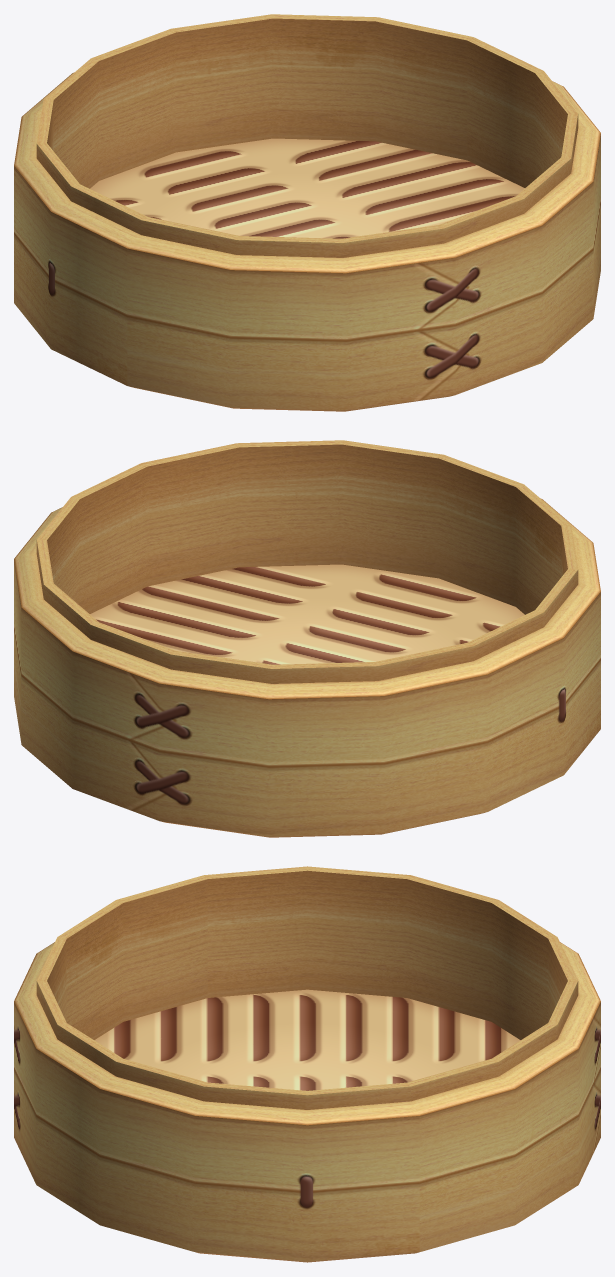
Rendered from Steamer_Middle.fbx.
3 views of the same model, one above another, from view 1: azimuth 30°, elevation 25°; view 2: azimuth 150°, elevation 25°; view 3: azimuth 270°, elevation 25° (orthographic).
Visible parts, largest first — view 1: Steamer_Middle; view 2: Steamer_Middle; view 3: Steamer_Middle.
Boxes of the visible parts, box(x1,y1,x2,y2) form: Steamer_Middle: box(14, 14, 600, 411); Steamer_Middle: box(14, 440, 600, 837); Steamer_Middle: box(14, 866, 600, 1262).
Bounding box in the file's own units: 120 × 36.66 × 120.
